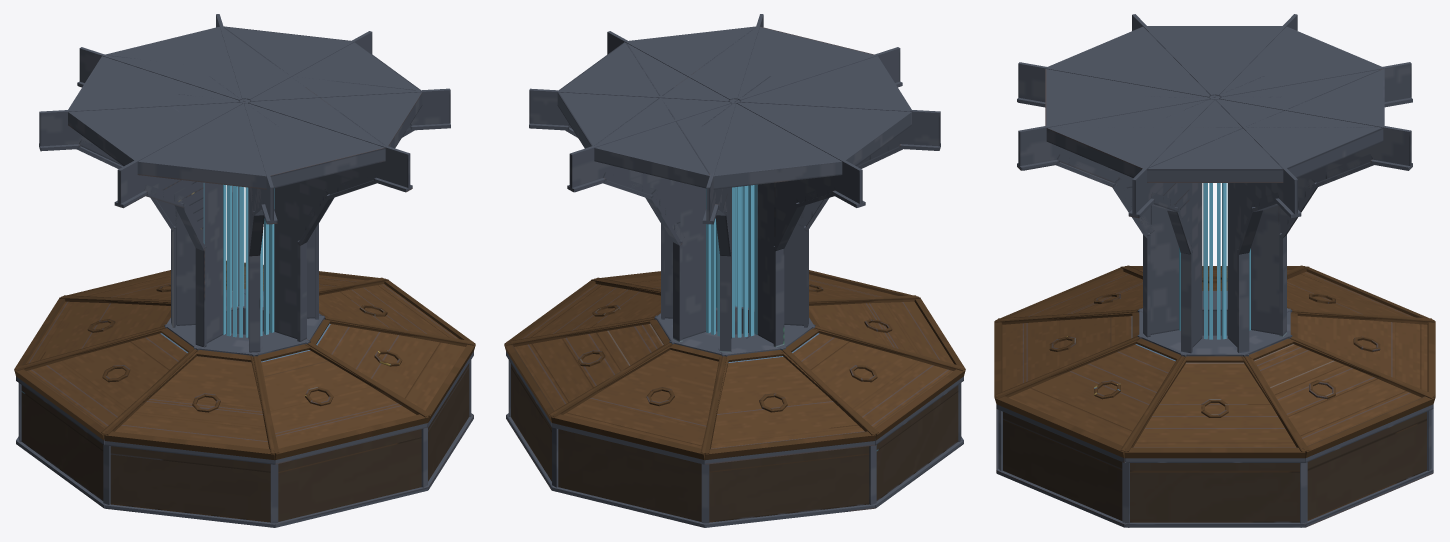
The model's file is tardis_engine_toyota.obj.
3 views of the same model, side by side, from view 1: azimuth 30°, elevation 25°; view 2: azimuth 150°, elevation 25°; view 3: azimuth 270°, elevation 25° (orthographic). The views are drawn at different scales.
Parts seen in each view (by area): view 1: platform_7_1, platform_7_3, platform_7_4, platform_2_4, platform_2_3, platform_7_7, platform_7_2, platform_7_5, platform_2_5, platform_7_0, beam_2_1, beam_8_1 (+46 smaller); view 2: platform_7_0, platform_7_5, platform_7_2, platform_2_0, platform_7_3, platform_2_1, platform_7_1, platform_7_6, platform_7_7, platform_2_5, beam_5_1, platform_7_4 (+46 smaller); view 3: platform_7_2, platform_7_0, platform_2_7, platform_7_4, platform_7_6, platform_2_2, platform_2_6, platform_7_7, platform_7_1, platform_7_5, beam_5_1, beam_2_1 (+52 smaller).
Part boxes in pixels (x1=…): platform_7_1: x1=105, y1=26, x2=300, y2=115; platform_7_3: x1=186, y1=87, x2=385, y2=188; platform_7_4: x1=136, y1=94, x2=298, y2=189; platform_2_4: x1=110, y1=454, x2=270, y2=522; platform_2_3: x1=278, y1=437, x2=421, y2=521; platform_7_7: x1=233, y1=42, x2=420, y2=126; platform_7_2: x1=227, y1=77, x2=422, y2=148; platform_7_5: x1=68, y1=76, x2=275, y2=165; platform_2_5: x1=21, y1=392, x2=103, y2=500; platform_7_0: x1=68, y1=55, x2=245, y2=129; beam_2_1: x1=274, y1=182, x2=299, y2=338; beam_8_1: x1=203, y1=182, x2=222, y2=343; platform_7_0: x1=668, y1=94, x2=843, y2=189; platform_7_5: x1=701, y1=76, x2=911, y2=165; platform_7_2: x1=625, y1=26, x2=801, y2=108; platform_2_0: x1=709, y1=454, x2=869, y2=522; platform_7_3: x1=675, y1=26, x2=874, y2=115; platform_2_1: x1=558, y1=437, x2=701, y2=521; platform_7_1: x1=594, y1=87, x2=794, y2=188; platform_7_6: x1=557, y1=80, x2=751, y2=148; platform_7_7: x1=559, y1=42, x2=703, y2=119; platform_2_5: x1=876, y1=392, x2=958, y2=500; beam_5_1: x1=680, y1=182, x2=705, y2=338; platform_7_4: x1=786, y1=55, x2=911, y2=125; platform_7_2: x1=1046, y1=77, x2=1263, y2=177; platform_7_0: x1=1165, y1=26, x2=1382, y2=118; platform_2_7: x1=1130, y1=471, x2=1299, y2=522; platform_7_4: x1=1047, y1=26, x2=1264, y2=117; platform_7_6: x1=1167, y1=87, x2=1383, y2=177; platform_2_2: x1=1003, y1=420, x2=1122, y2=520; platform_2_6: x1=1307, y1=420, x2=1426, y2=520; platform_7_7: x1=1143, y1=98, x2=1286, y2=182; platform_7_1: x1=1215, y1=68, x2=1384, y2=127; platform_7_5: x1=1143, y1=26, x2=1286, y2=97; beam_5_1: x1=1251, y1=205, x2=1280, y2=334; beam_2_1: x1=1149, y1=205, x2=1178, y2=334.
Bounding box in the file's own units: 7.33 × 6.22 × 7.33.
